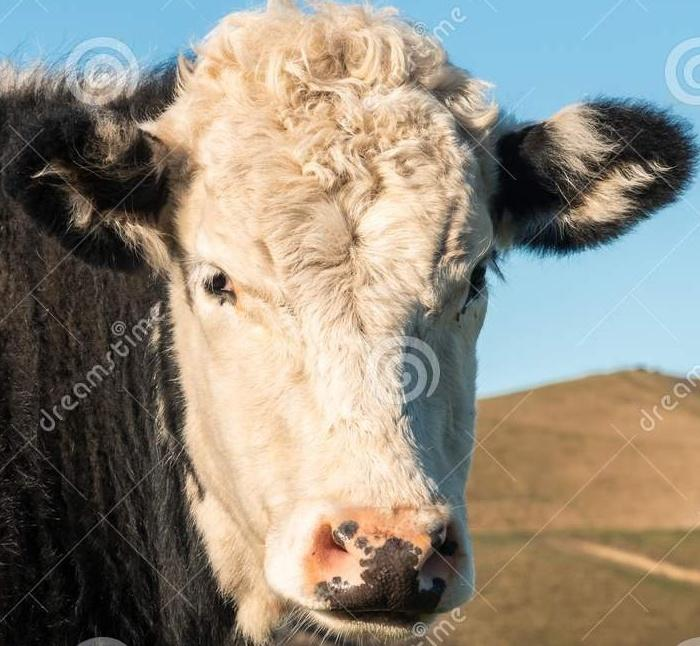muzzles: (267, 507, 481, 635)
